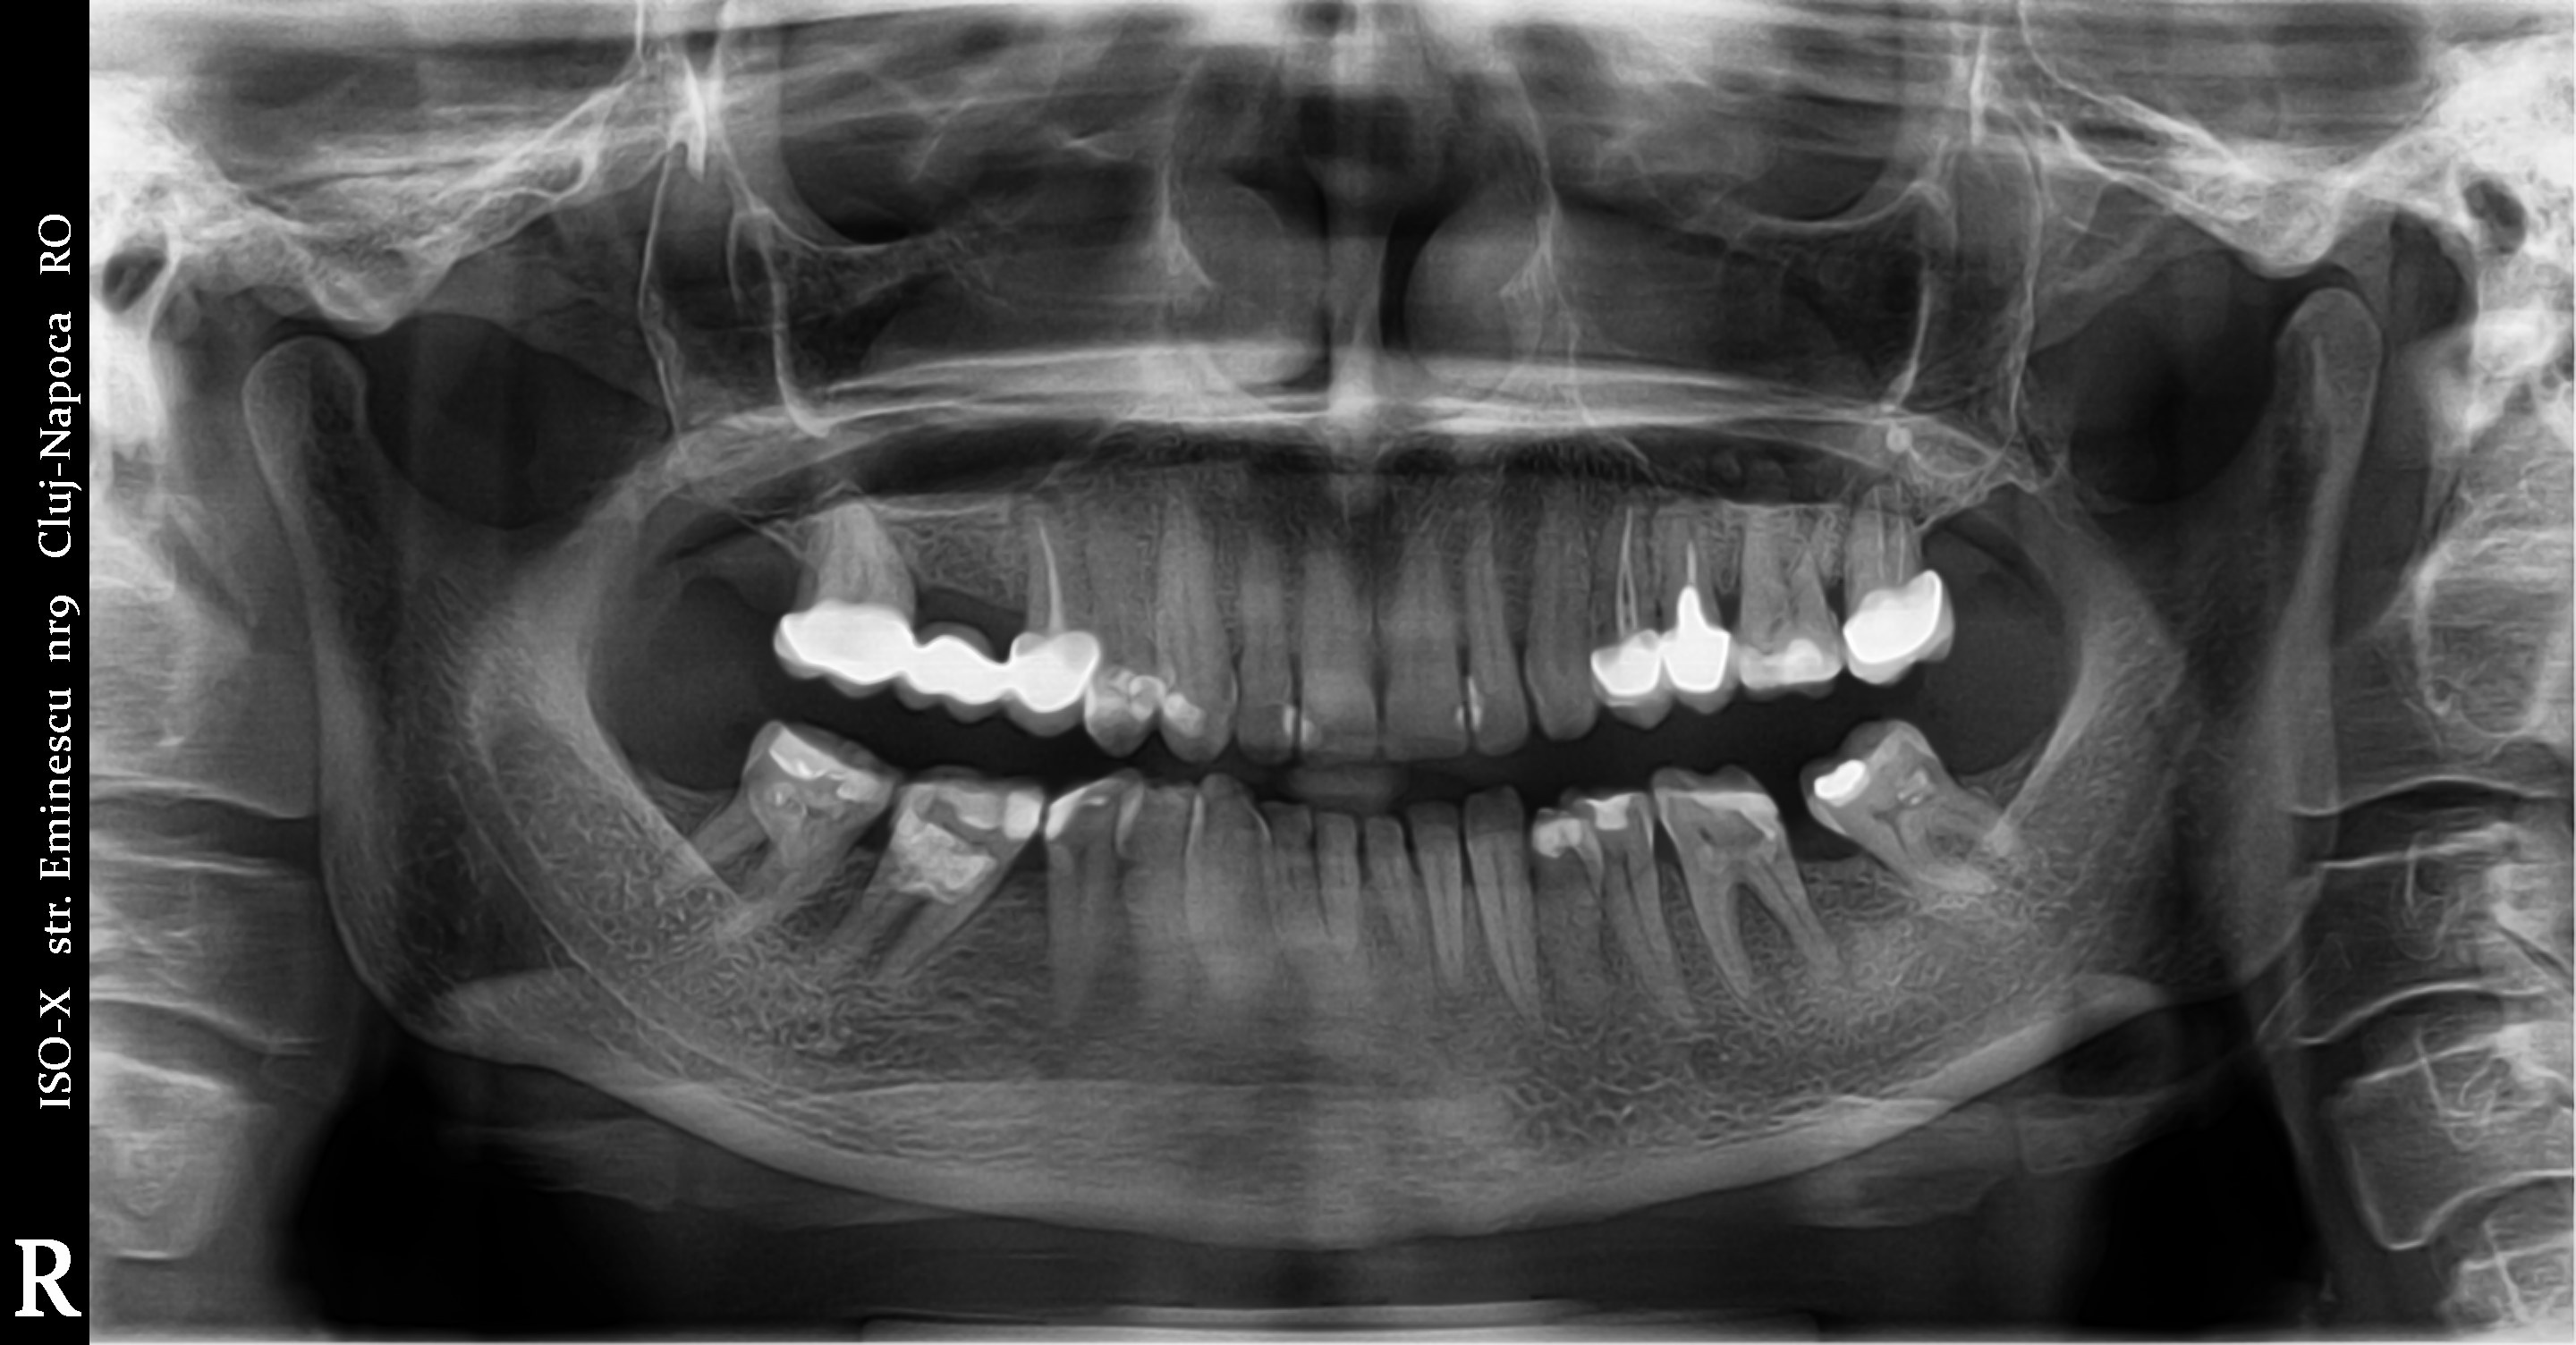API: (997, 456, 1085, 533)
END: (1593, 506, 1646, 630), (1021, 501, 1070, 621), (1666, 518, 1704, 589)
OBT: (746, 712, 917, 812), (886, 771, 981, 921), (1665, 761, 1796, 846), (1731, 618, 1842, 701), (1082, 659, 1162, 770), (1520, 804, 1613, 890), (1038, 759, 1124, 853), (981, 776, 1060, 855), (1567, 775, 1642, 844), (1157, 684, 1218, 759), (1811, 749, 1877, 810), (1893, 753, 1946, 816), (1457, 666, 1503, 735), (1291, 701, 1337, 768), (1266, 696, 1308, 742), (1431, 691, 1474, 732)
PRR: (758, 574, 1101, 753), (1583, 584, 1750, 741), (1850, 557, 1963, 690)
